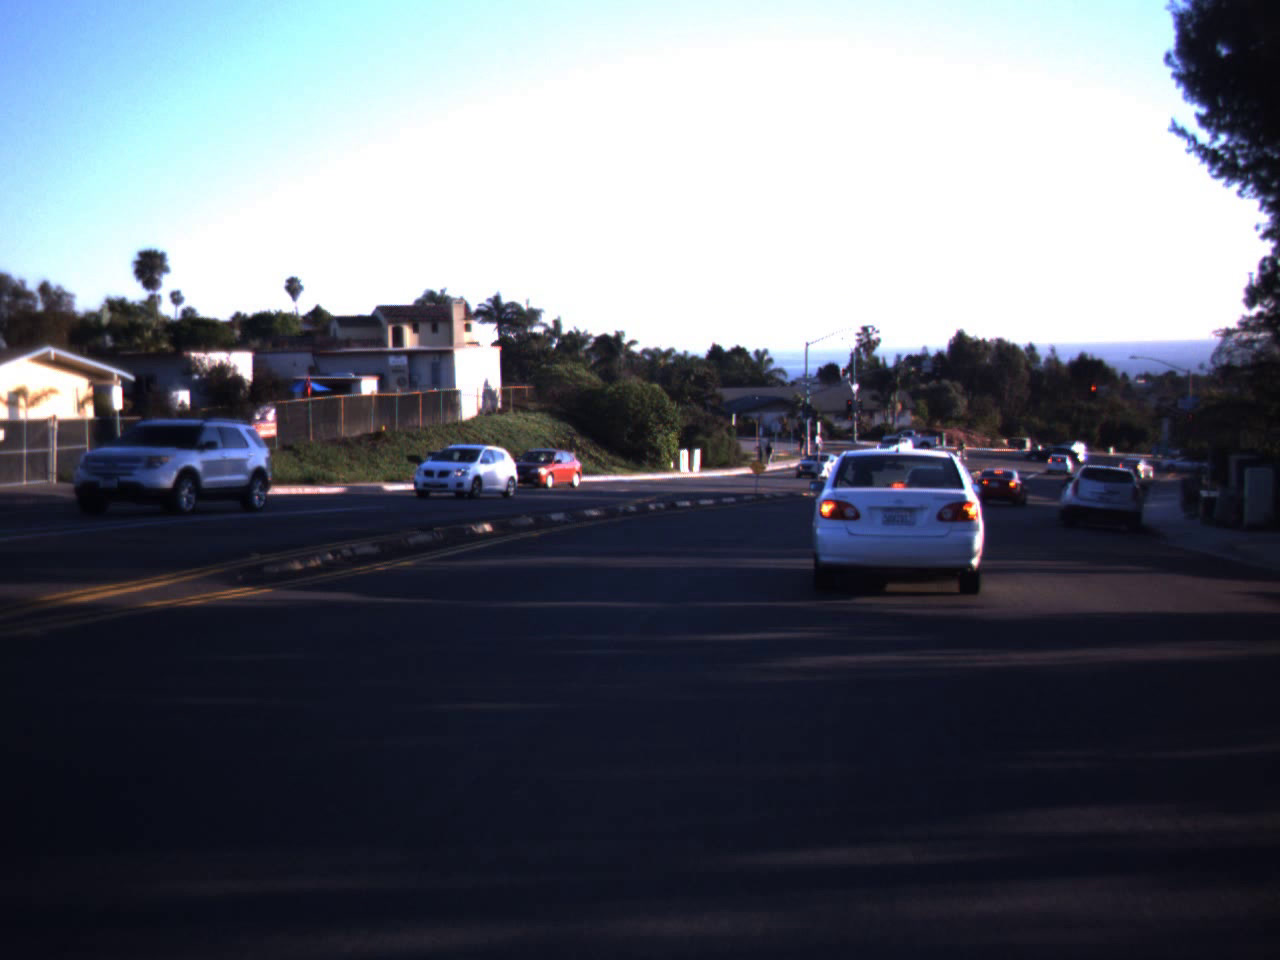stop: (1088, 384, 1100, 402)
